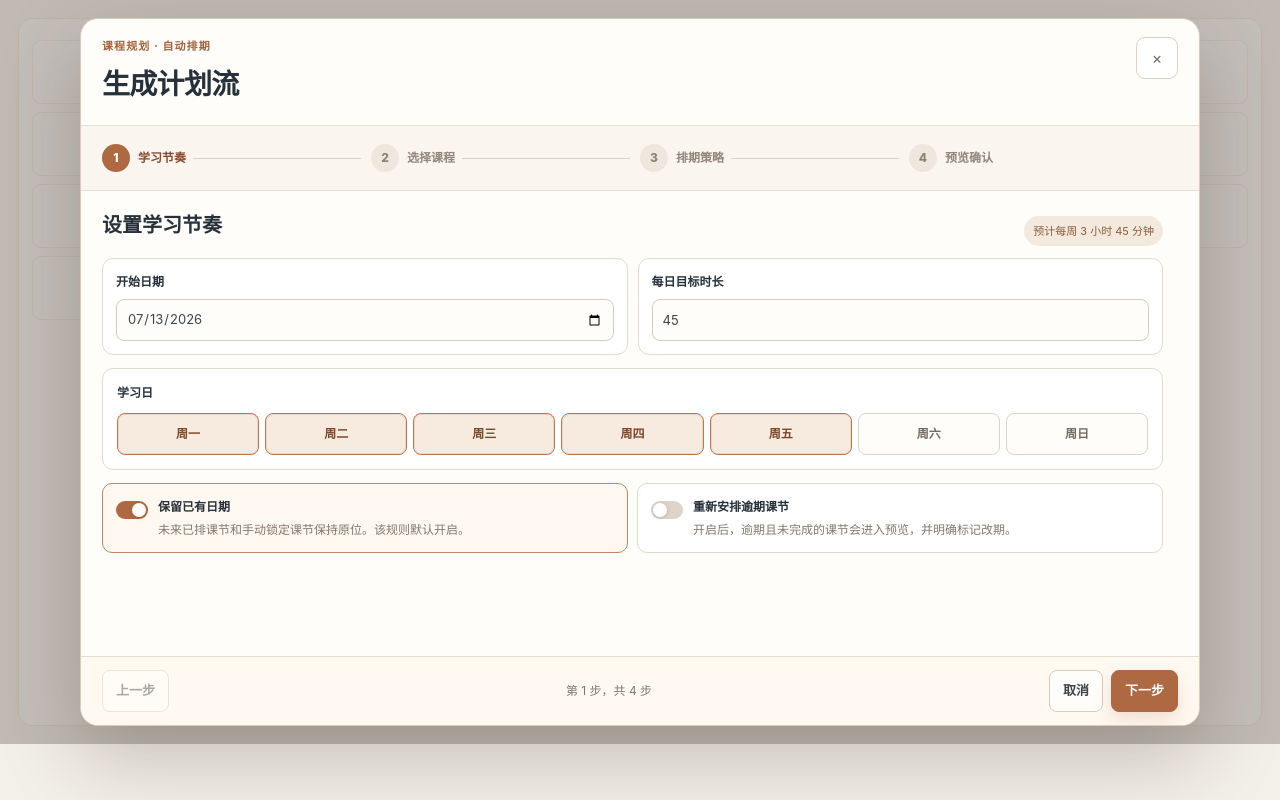
Test: PlanFlowPanel › groups the confirmation preview by week and summarizes daily lesson load
Click the button "下一步" at (1144, 691), box [1111, 670, 1178, 712]
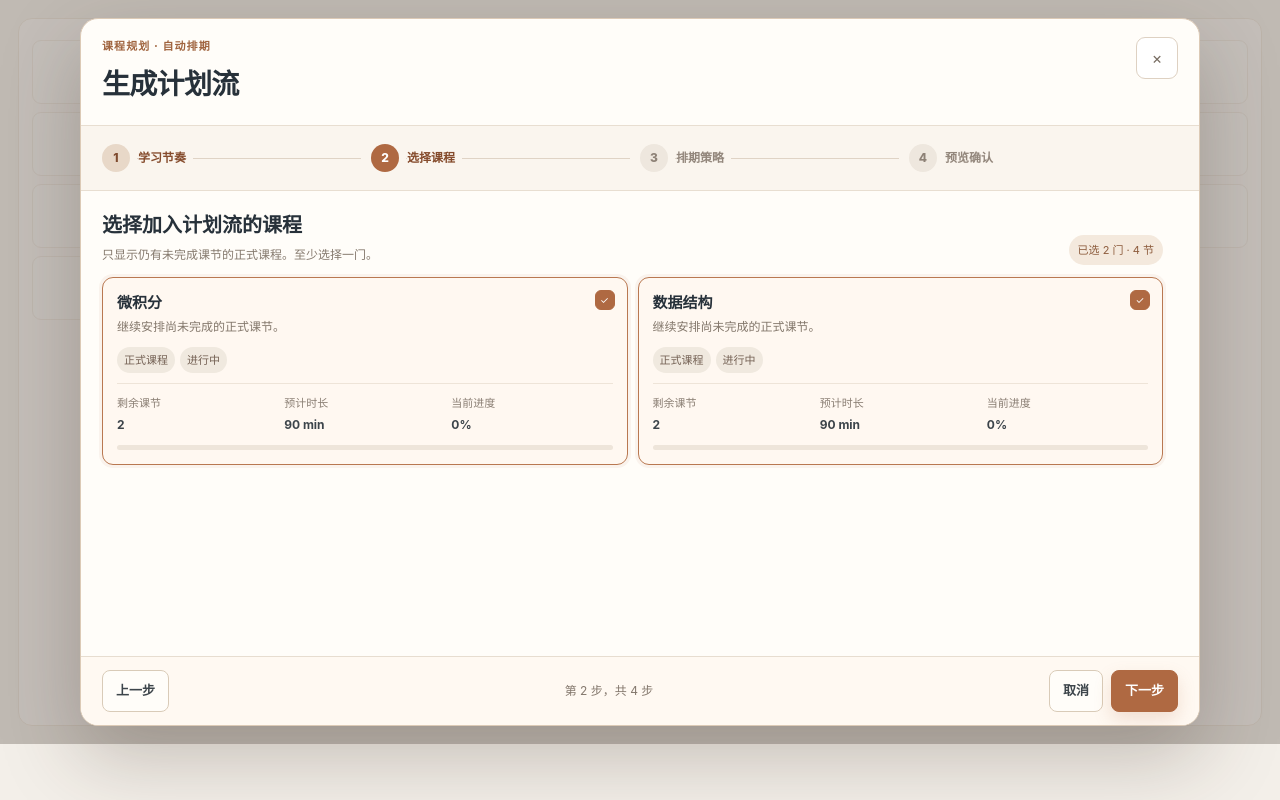
Click the button "下一步" at (1144, 691), box [1111, 670, 1178, 712]
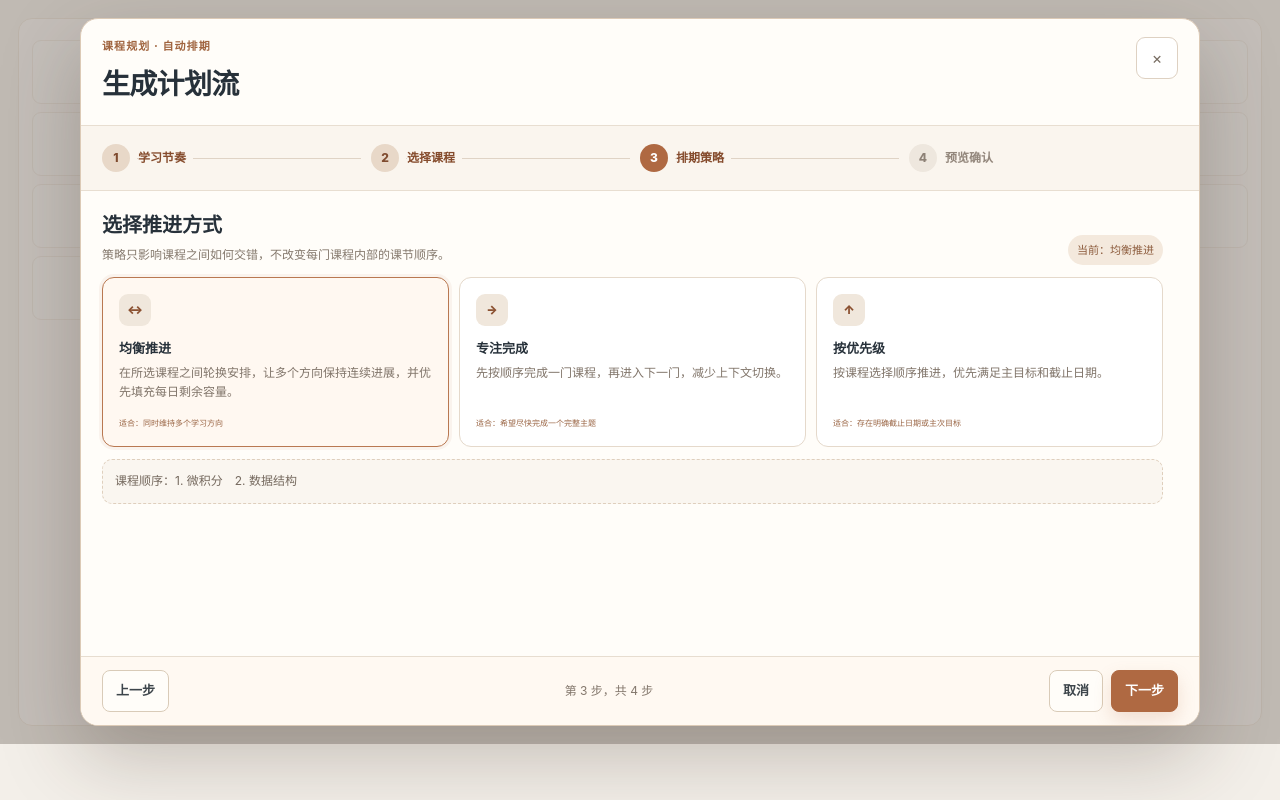
Click the button "下一步" at (1144, 691), box [1111, 670, 1178, 712]
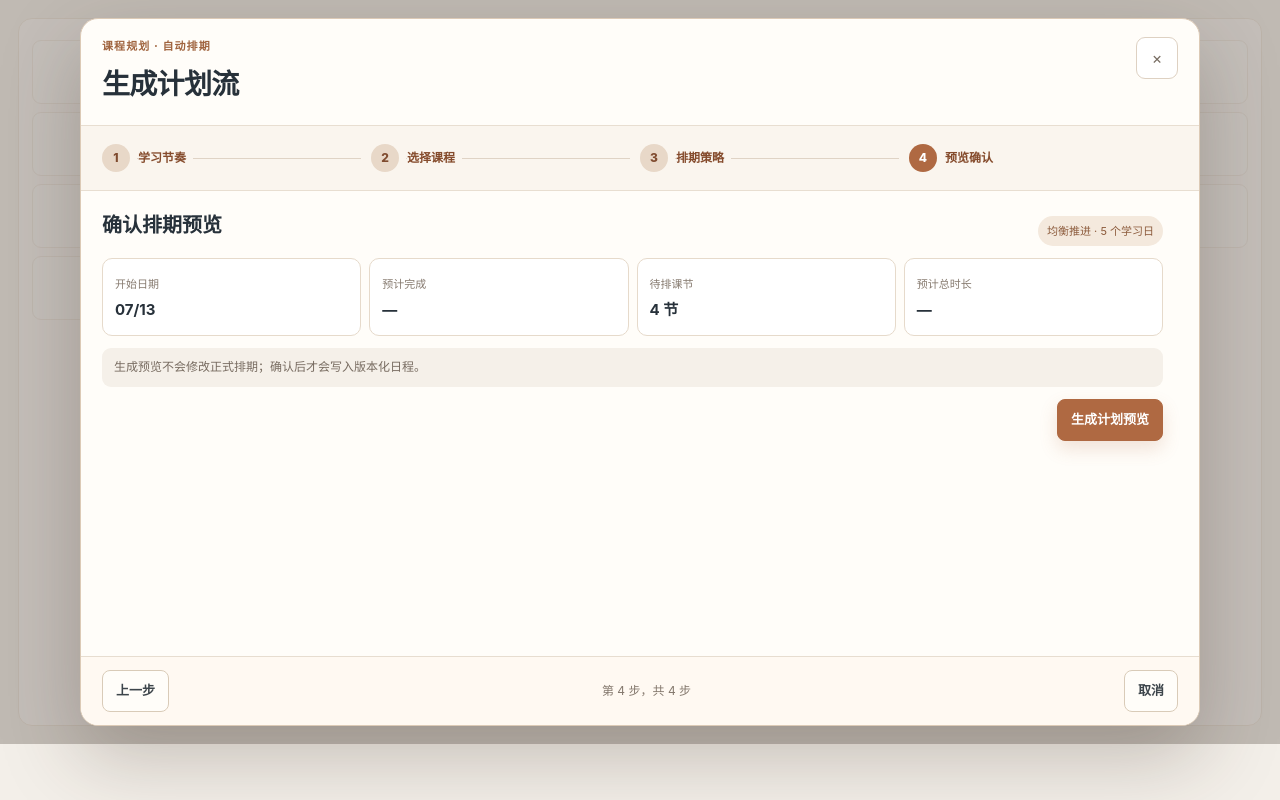
Click the button "生成计划预览" at (1110, 420), box [1057, 399, 1163, 441]
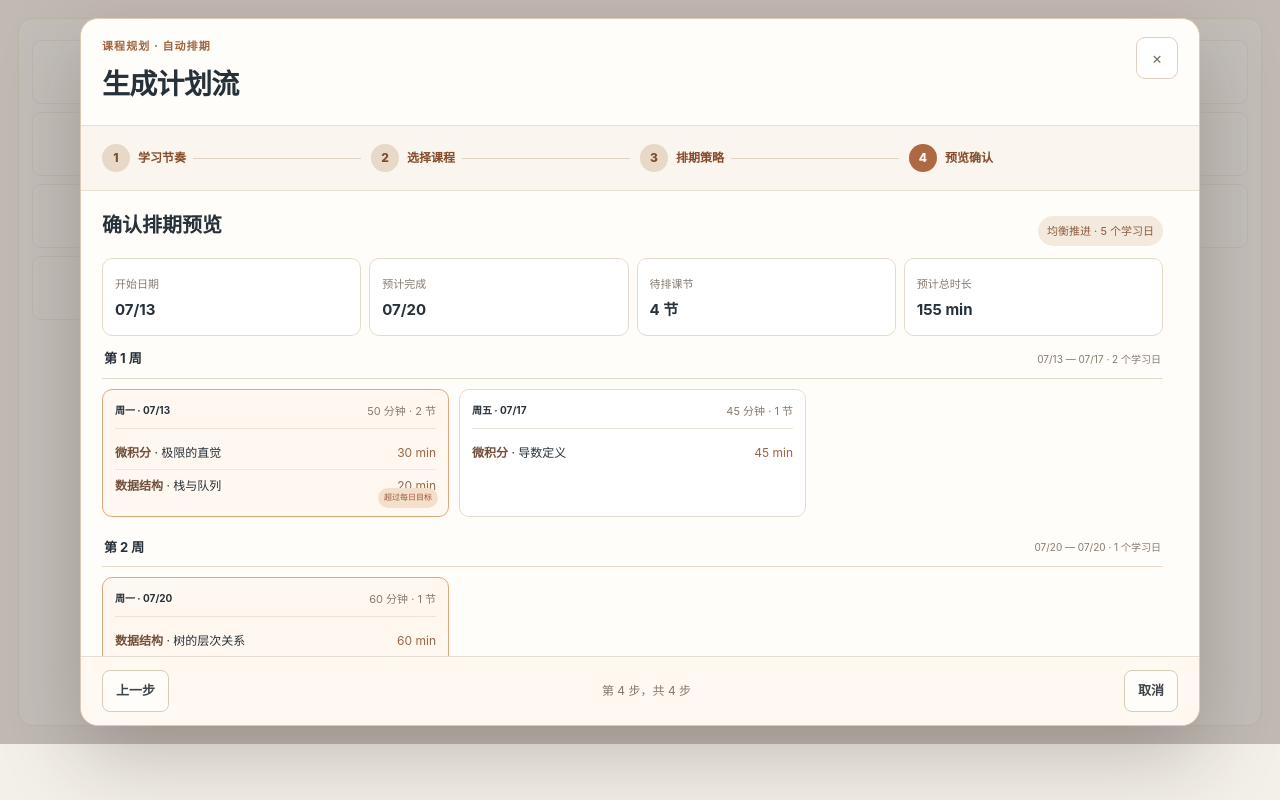
Now the heading "第 1 周" is shown, box [104, 348, 142, 370]
Now the heading "第 2 周" is shown, box [104, 537, 144, 558]
Now the text "07/13 — 07/17 · 2 个学习日" is shown, box [1037, 351, 1161, 367]
